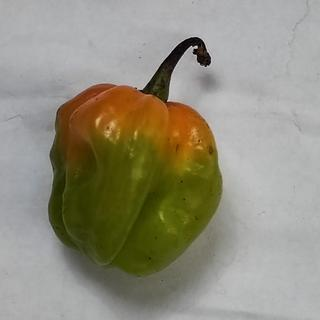Fly-bites: (203, 141, 218, 158)
